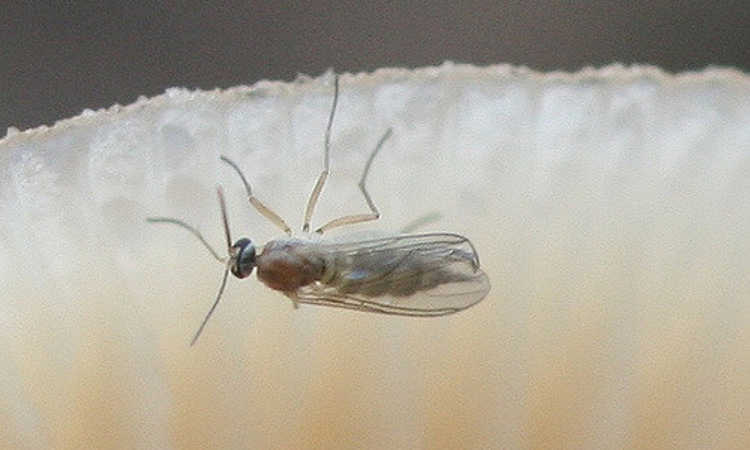Fruit fly: (185, 157, 470, 367)
